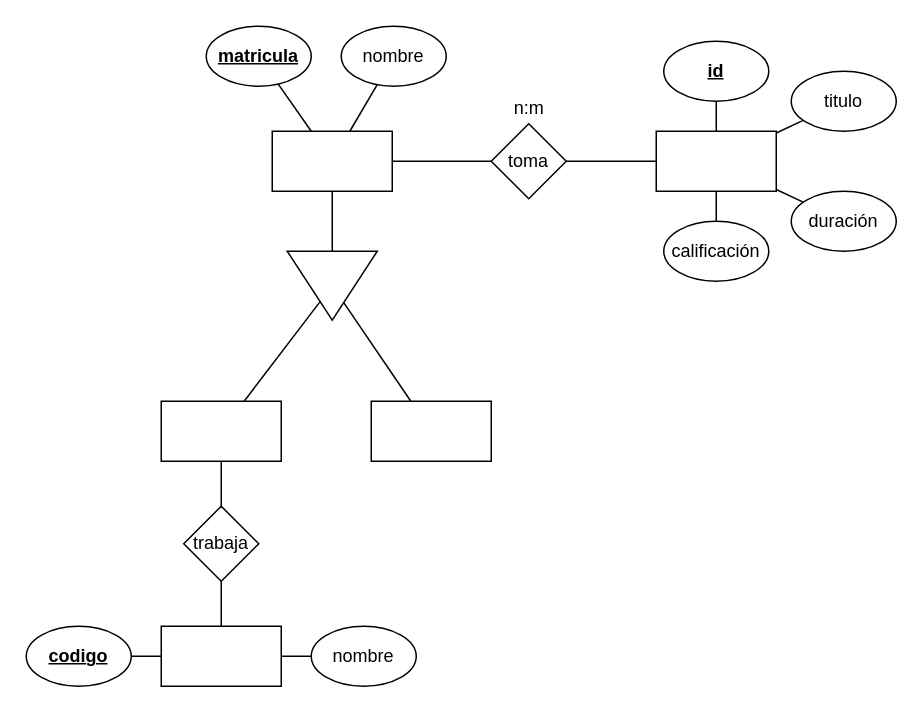
This 923x713 diagram has some shape labels left out. Here are the shapes that lost their labels. From the top down, the centre of each, then its label:
the point at 331,160: Alumno
the point at 715,160: Curso
the point at 220,430: Trabajador
the point at 430,430: Desempleado
the point at 220,655: Empresa
